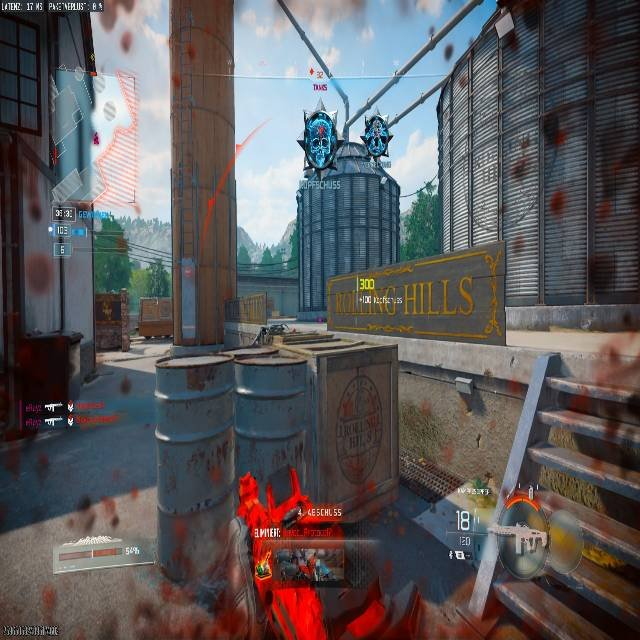player: (235, 474, 273, 575), (361, 113, 393, 160)
